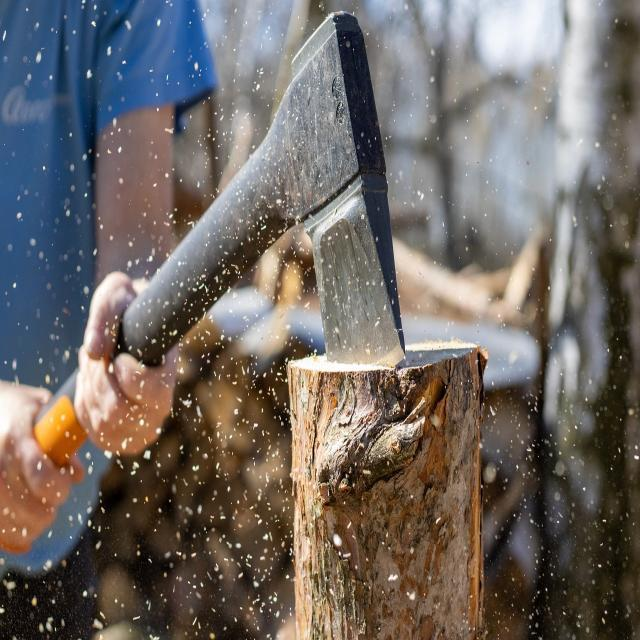Axe: (120, 12, 405, 365), (35, 380, 86, 465)
